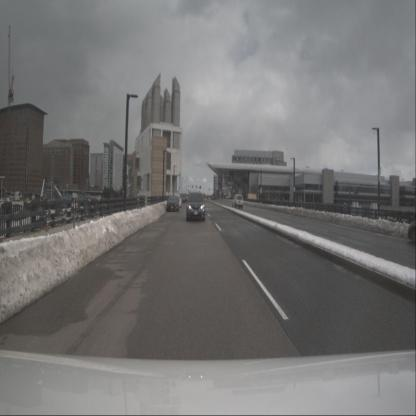vehicle-car: (186, 193, 206, 221), (166, 195, 179, 212), (232, 195, 243, 209), (173, 195, 182, 208), (180, 194, 185, 204), (182, 193, 187, 202)
